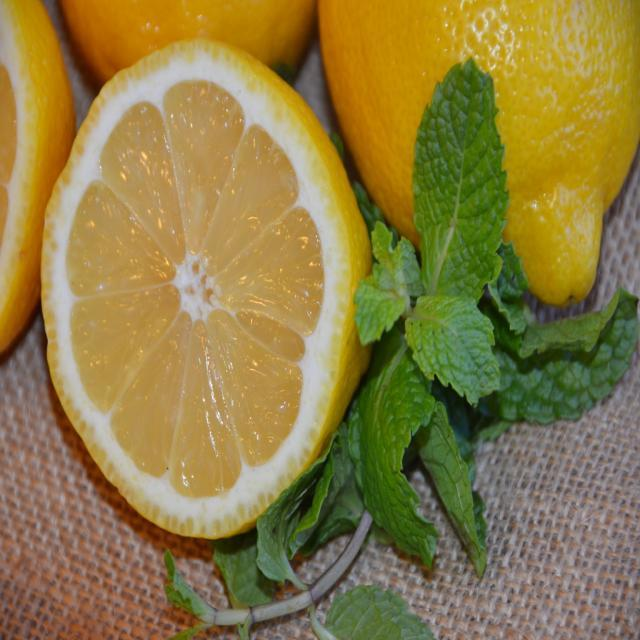Lemon: (45, 31, 365, 554), (320, 0, 638, 299), (0, 6, 73, 352), (66, 2, 310, 87)
